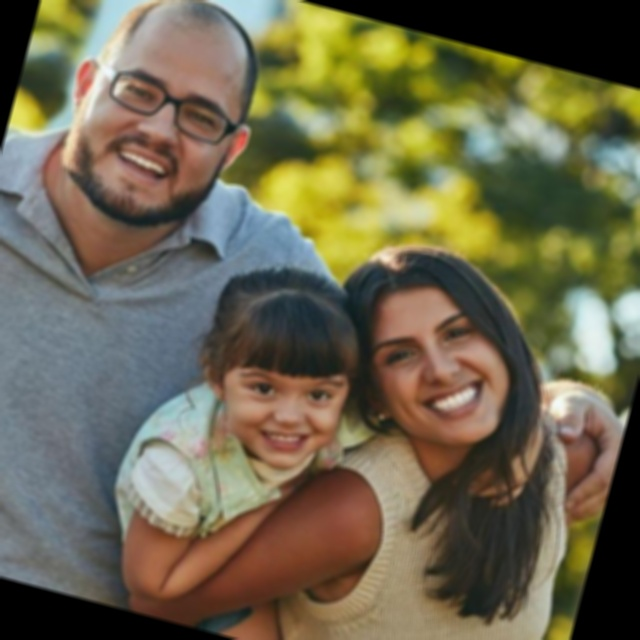Sin_Casco_Mascarrilla: (46, 0, 276, 243), (316, 226, 554, 457), (182, 255, 373, 477)
